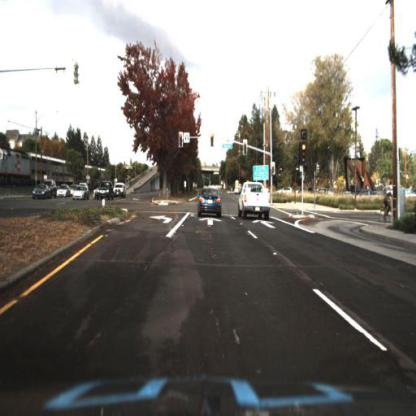biker: (380, 191, 397, 225)
car: (239, 180, 272, 219), (198, 184, 226, 217), (31, 180, 52, 203), (95, 181, 113, 204), (95, 180, 114, 201), (72, 182, 89, 203), (34, 185, 55, 199), (73, 185, 91, 199), (115, 182, 127, 198), (117, 182, 127, 200), (51, 179, 58, 204), (279, 185, 294, 196), (60, 184, 72, 196), (58, 184, 69, 197)
trafficLight-Red: (178, 133, 186, 153), (207, 132, 218, 146), (301, 143, 307, 166), (241, 139, 249, 155), (243, 141, 250, 155), (210, 133, 216, 149), (301, 143, 308, 156)
trafficLight-RedLeft: (180, 133, 188, 151)
